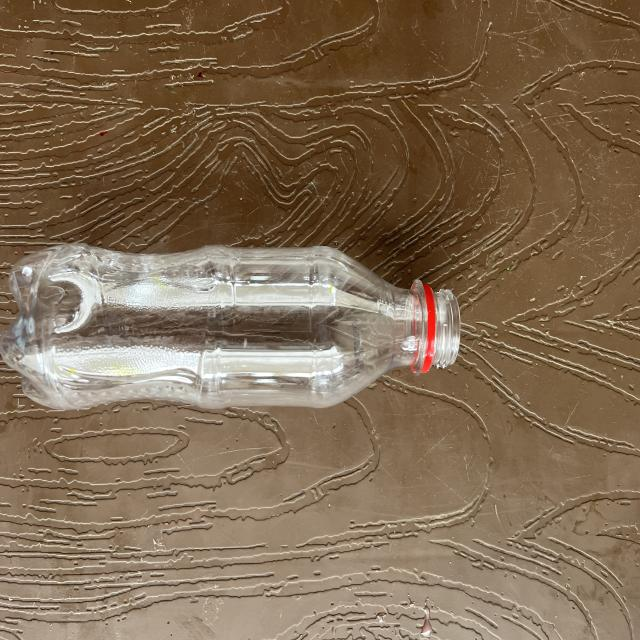PET_With_Cap: (4, 251, 465, 411)
